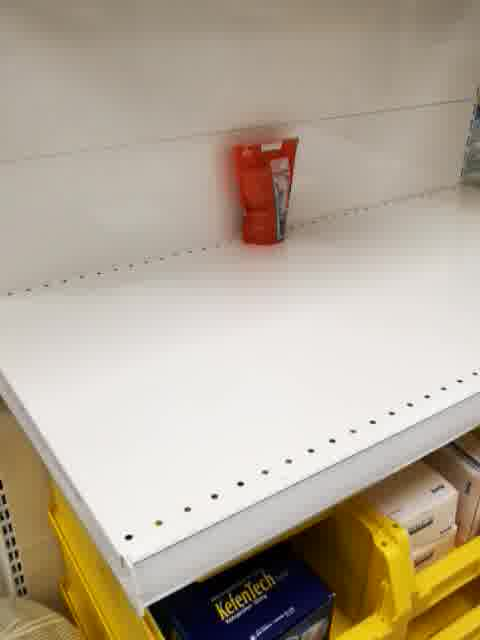whitechia: (229, 136, 300, 247)
